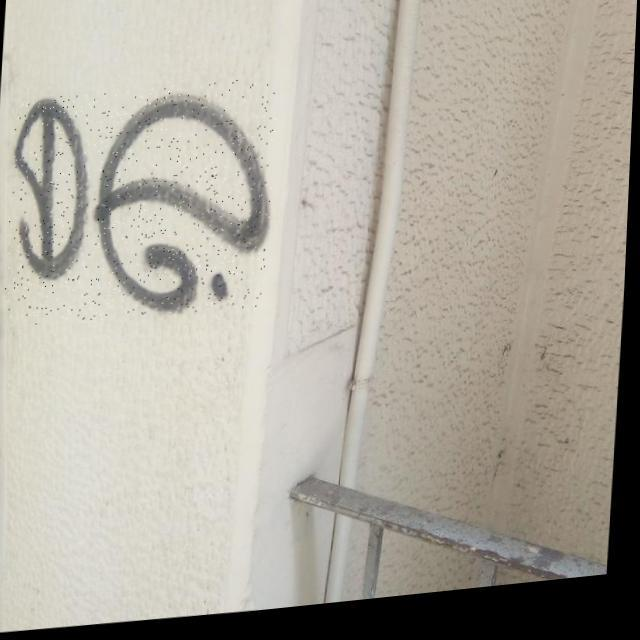-: (6, 78, 280, 334)
